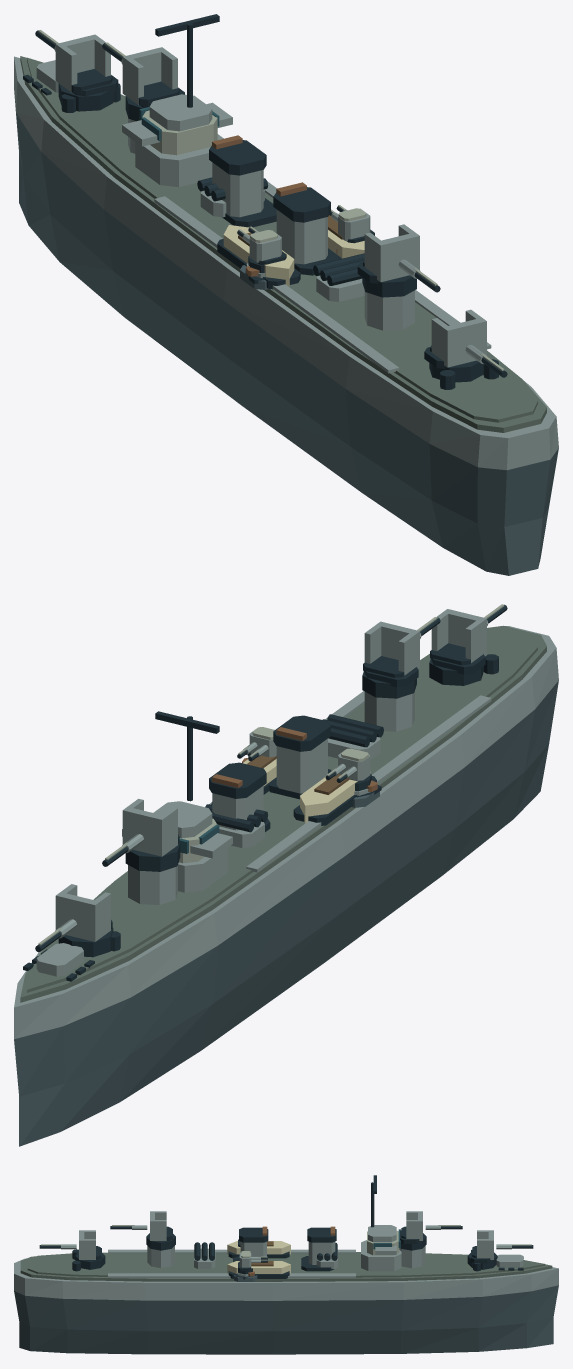
The model's file is historic-kortenaer.glb.
3 renders of one model, top to bottom at view 1: azimuth 30°, elevation 25°; view 2: azimuth 150°, elevation 25°; view 3: azimuth 270°, elevation 25°, orthographic. The views are drawn at different scales.
Visible parts, largest first — view 1: historic-kortenaer-historic-kortenaer-geometry, historic-kortenaer-part_bridge.053-geometry, historic-kortenaer-historic_funnel_0.054-geometry, historic-kortenaer-historic_funnel_1.029-geometry, historic-kortenaer-turret_main_0.043-geometry, historic-kortenaer-turret_main_2.037-geometry, historic-kortenaer-turret_main_3.021-geometry, historic-kortenaer-turret_main_1.042-geometry, historic-kortenaer-torpedo_bank_0.013-geometry, historic-kortenaer-turret_aa_aa-port.055-geometry, historic-kortenaer-turret_aa_aa-starboard.053-geometry, historic-kortenaer-torpedo_bank_1.012-geometry; view 2: historic-kortenaer-historic-kortenaer-geometry, historic-kortenaer-part_bridge.053-geometry, historic-kortenaer-turret_main_2.037-geometry, historic-kortenaer-turret_main_3.021-geometry, historic-kortenaer-historic_funnel_1.029-geometry, historic-kortenaer-turret_main_1.042-geometry, historic-kortenaer-turret_main_0.043-geometry, historic-kortenaer-historic_funnel_0.054-geometry, historic-kortenaer-torpedo_bank_0.013-geometry, historic-kortenaer-torpedo_bank_1.012-geometry, historic-kortenaer-turret_aa_aa-port.055-geometry, historic-kortenaer-turret_aa_aa-starboard.053-geometry; view 3: historic-kortenaer-historic-kortenaer-geometry, historic-kortenaer-part_bridge.053-geometry, historic-kortenaer-historic_funnel_0.054-geometry, historic-kortenaer-turret_main_2.037-geometry, historic-kortenaer-turret_main_3.021-geometry, historic-kortenaer-turret_main_0.043-geometry, historic-kortenaer-turret_main_1.042-geometry, historic-kortenaer-historic_funnel_1.029-geometry, historic-kortenaer-torpedo_bank_0.013-geometry, historic-kortenaer-turret_aa_aa-starboard.053-geometry, historic-kortenaer-torpedo_bank_1.012-geometry.
Boxes of the visible parts, x1,y1,x2,y2 form: historic-kortenaer-historic-kortenaer-geometry: (14,56,558,575); historic-kortenaer-part_bridge.053-geometry: (122,14,232,187); historic-kortenaer-historic_funnel_0.054-geometry: (209,135,276,227); historic-kortenaer-historic_funnel_1.029-geometry: (273,182,339,275); historic-kortenaer-turret_main_0.043-geometry: (35,30,118,111); historic-kortenaer-turret_main_2.037-geometry: (357,224,440,297); historic-kortenaer-turret_main_3.021-geometry: (424,309,507,382); historic-kortenaer-turret_main_1.042-geometry: (102,42,184,121); historic-kortenaer-torpedo_bank_0.013-geometry: (313,253,364,301); historic-kortenaer-turret_aa_aa-port.055-geometry: (237,226,286,273); historic-kortenaer-turret_aa_aa-starboard.053-geometry: (329,205,374,243); historic-kortenaer-torpedo_bank_1.012-geometry: (197,177,268,217); historic-kortenaer-historic-kortenaer-geometry: (14,625,558,1146); historic-kortenaer-part_bridge.053-geometry: (122,711,232,892); historic-kortenaer-turret_main_2.037-geometry: (362,617,440,698); historic-kortenaer-turret_main_3.021-geometry: (429,604,507,685); historic-kortenaer-historic_funnel_1.029-geometry: (269,715,331,799); historic-kortenaer-turret_main_1.042-geometry: (102,798,180,871); historic-kortenaer-turret_main_0.043-geometry: (35,884,113,957); historic-kortenaer-historic_funnel_0.054-geometry: (209,762,270,831); historic-kortenaer-torpedo_bank_0.013-geometry: (322,714,383,760); historic-kortenaer-torpedo_bank_1.012-geometry: (205,802,267,848); historic-kortenaer-turret_aa_aa-port.055-geometry: (325,748,371,791); historic-kortenaer-turret_aa_aa-starboard.053-geometry: (237,727,276,761); historic-kortenaer-historic-kortenaer-geometry: (14,1241,558,1354); historic-kortenaer-part_bridge.053-geometry: (361,1175,401,1271); historic-kortenaer-historic_funnel_0.054-geometry: (301,1226,336,1271); historic-kortenaer-turret_main_2.037-geometry: (110,1211,175,1250); historic-kortenaer-turret_main_3.021-geometry: (39,1230,105,1269); historic-kortenaer-turret_main_0.043-geometry: (467,1230,533,1269); historic-kortenaer-turret_main_1.042-geometry: (400,1211,462,1250); historic-kortenaer-historic_funnel_1.029-geometry: (233,1226,268,1261); historic-kortenaer-torpedo_bank_0.013-geometry: (194,1242,215,1268); historic-kortenaer-turret_aa_aa-starboard.053-geometry: (238,1251,267,1274); historic-kortenaer-torpedo_bank_1.012-geometry: (316,1242,337,1268).
Bounding box in the file's own units: 0.5902 × 1.34 × 4.11.
